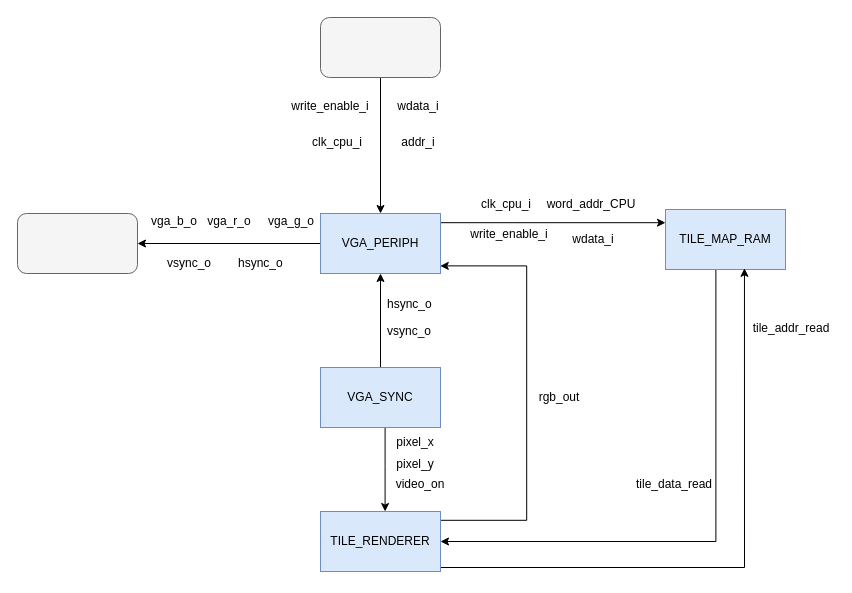
This 852x593 diagram has some shape labels left out. The box of each missing label's shape, as (x1, y1, x2, y2) in pixels:
CPU: (320, 16, 440, 78)
FPGA/ VGA: (16, 212, 138, 274)
